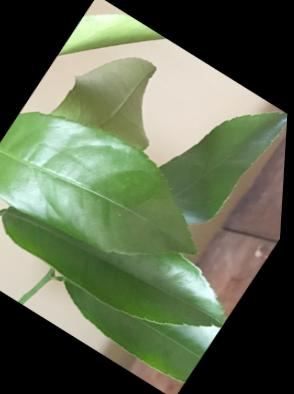Healthy Citrus: (0, 87, 232, 297), (0, 167, 234, 348), (57, 244, 231, 380), (151, 77, 290, 233)
